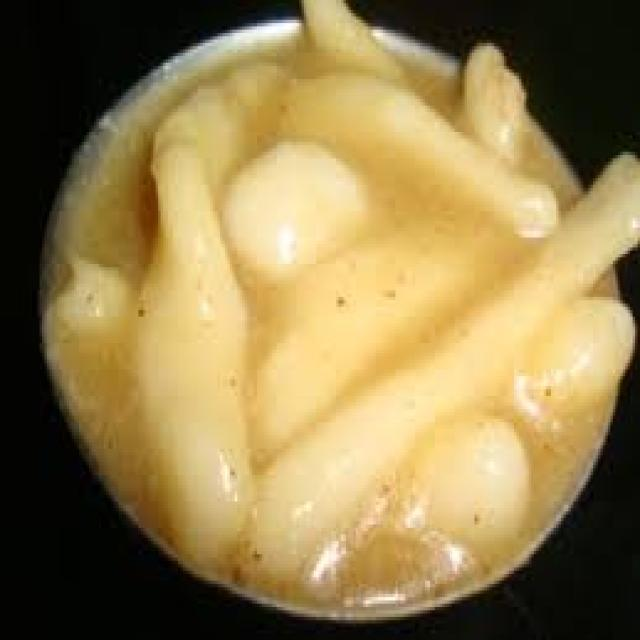paal kolukattai: (45, 0, 615, 573)
